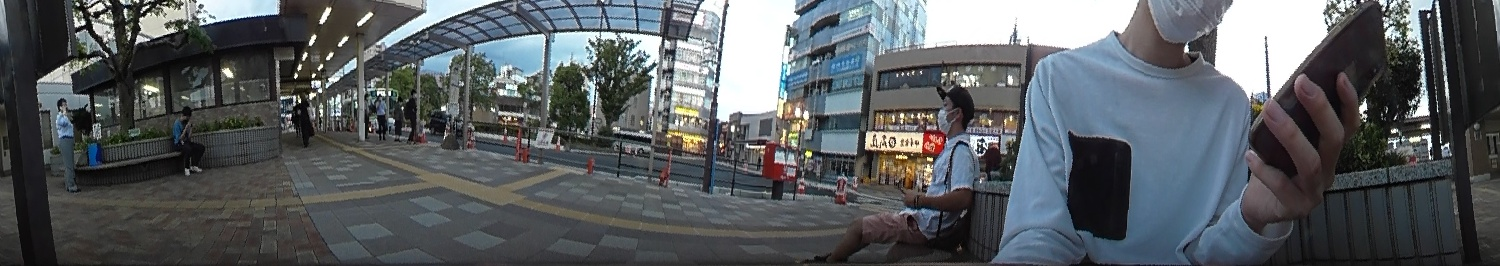difficult_person: (295, 88, 316, 144), (975, 140, 1005, 175), (402, 89, 421, 143), (374, 88, 386, 139), (362, 87, 373, 136), (391, 93, 403, 136)
person: (801, 76, 982, 266), (49, 96, 81, 194), (170, 103, 207, 168)
